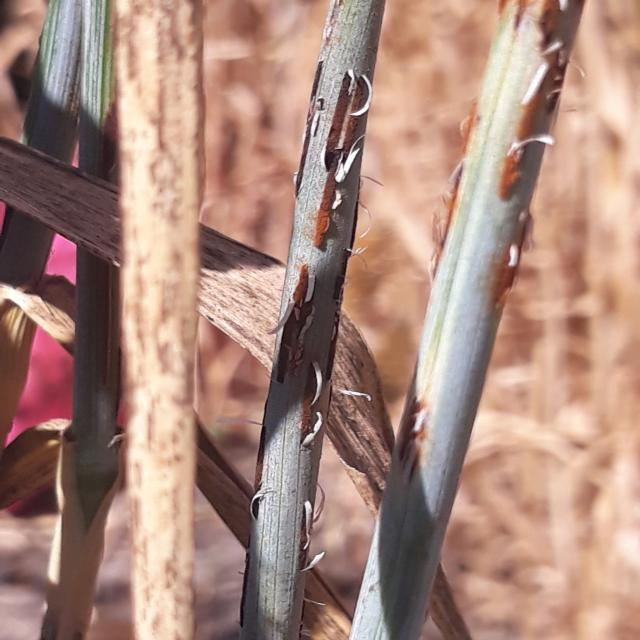black_stem_rust: (2, 0, 593, 640)
